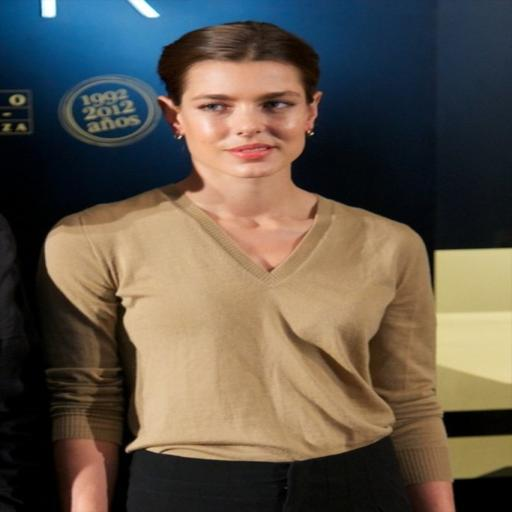Person: (111, 20, 430, 509)
no_goggle: (198, 90, 306, 122)
no_helmet: (192, 23, 304, 70)
none: (128, 179, 366, 462)
